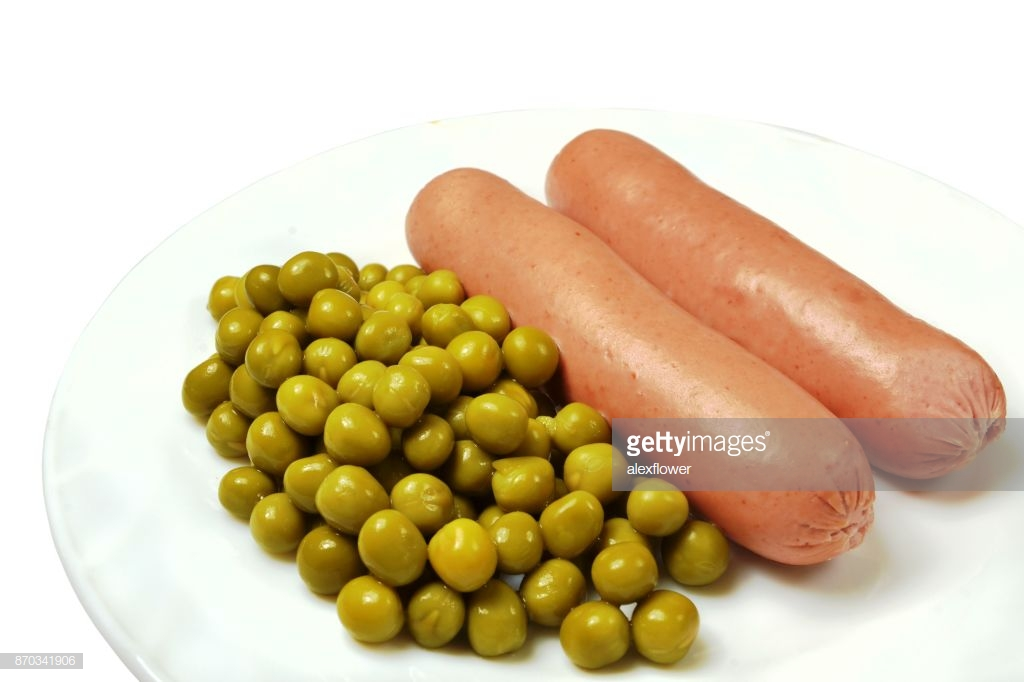boiled peas: (273, 284, 545, 638)
